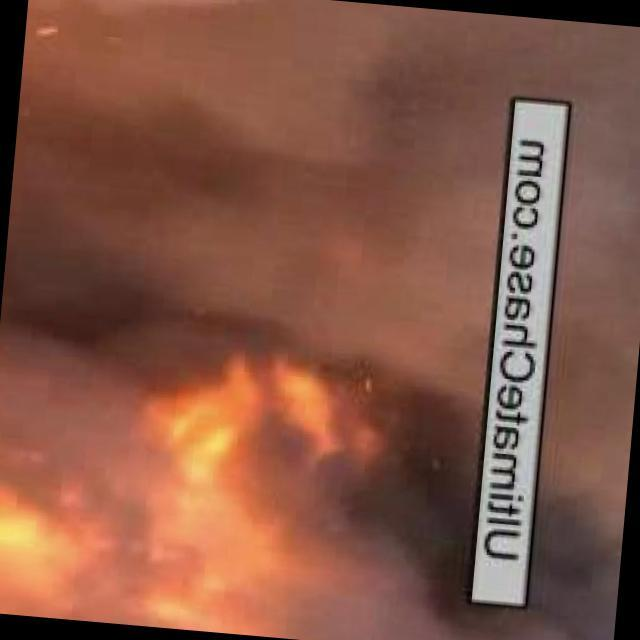Fire: (1, 311, 493, 640)
